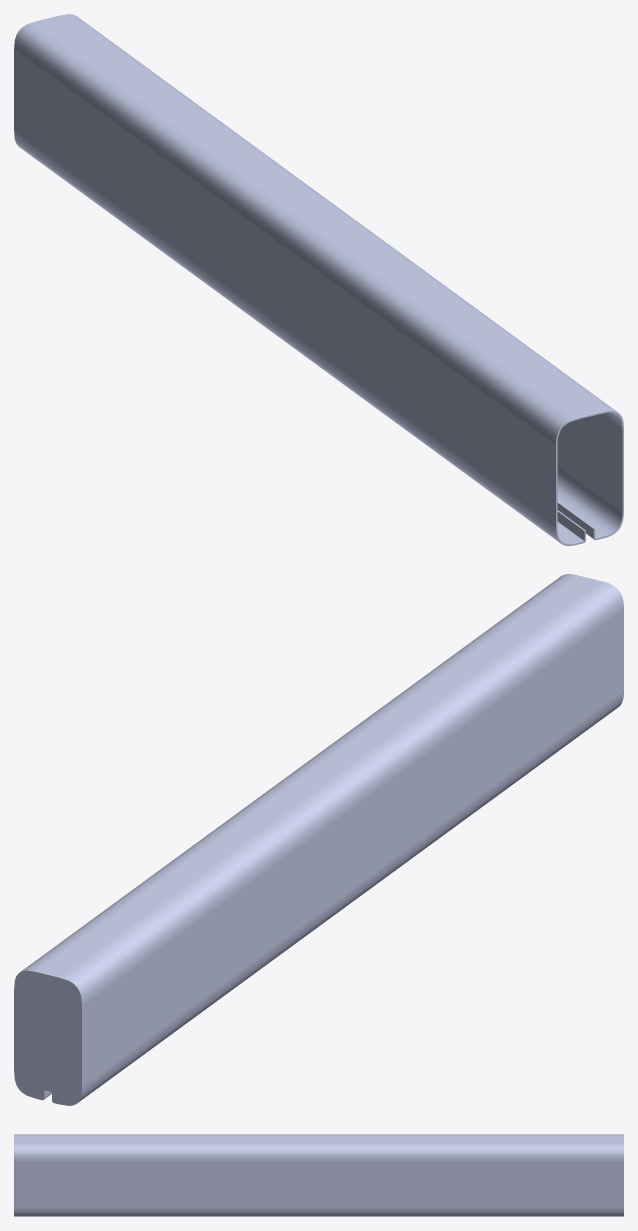
3 views of the same model, one above another, from view 1: azimuth 30°, elevation 25°; view 2: azimuth 150°, elevation 25°; view 3: azimuth 270°, elevation 25° (orthographic). The views are drawn at different scales.
Parts seen in each view (by area): view 1: Body1; view 2: Body1; view 3: Body1.
Boxes of the visible parts, left/top/right/bottom form: Body1: left=14, top=14, right=623, bottom=545; Body1: left=14, top=574, right=623, bottom=1105; Body1: left=14, top=1134, right=623, bottom=1216.
Bounding box in the file's own units: 9 × 16 × 124.
